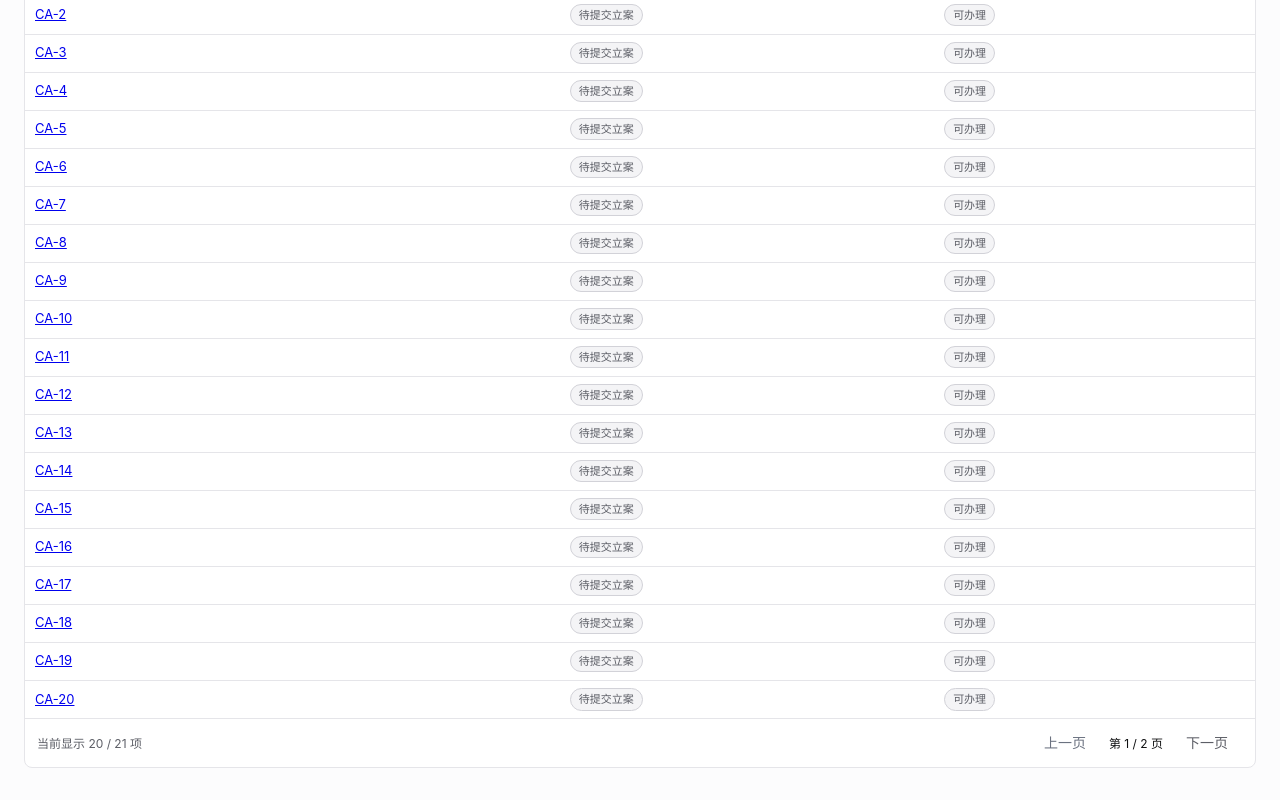
Test case: LawyerCaseListPage › requests and displays the second server page and disables boundary controls
(page scrolled)
Check: the button "上一页" is disabled, box [1029,727,1101,759]
Step 1. Click the button "下一页" → [1207, 743], box [1171,727,1243,759]
(page scrolled)
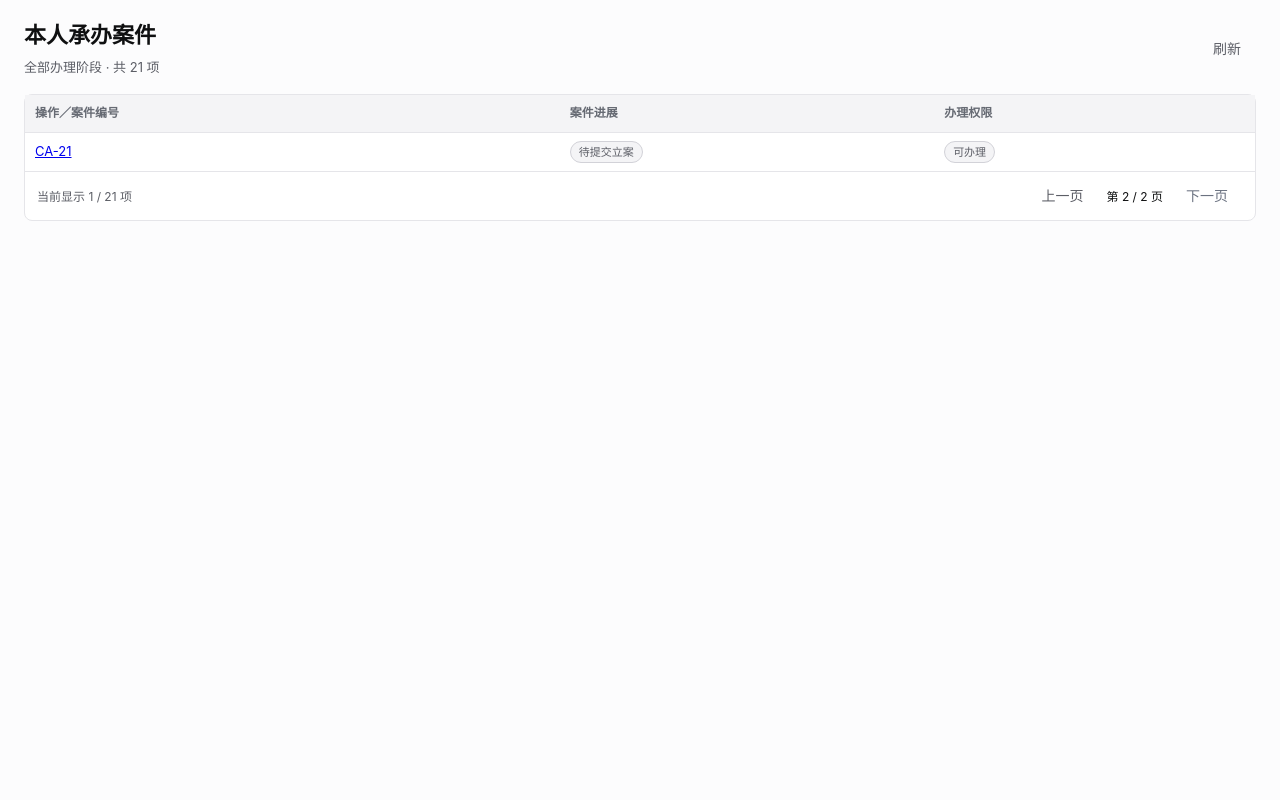
Check: the text "CA-21" is shown, box [35,143,72,159]
Check: the button "上一页" is enabled, box [1026,180,1098,212]
Check: the button "下一页" is disabled, box [1171,180,1243,212]
